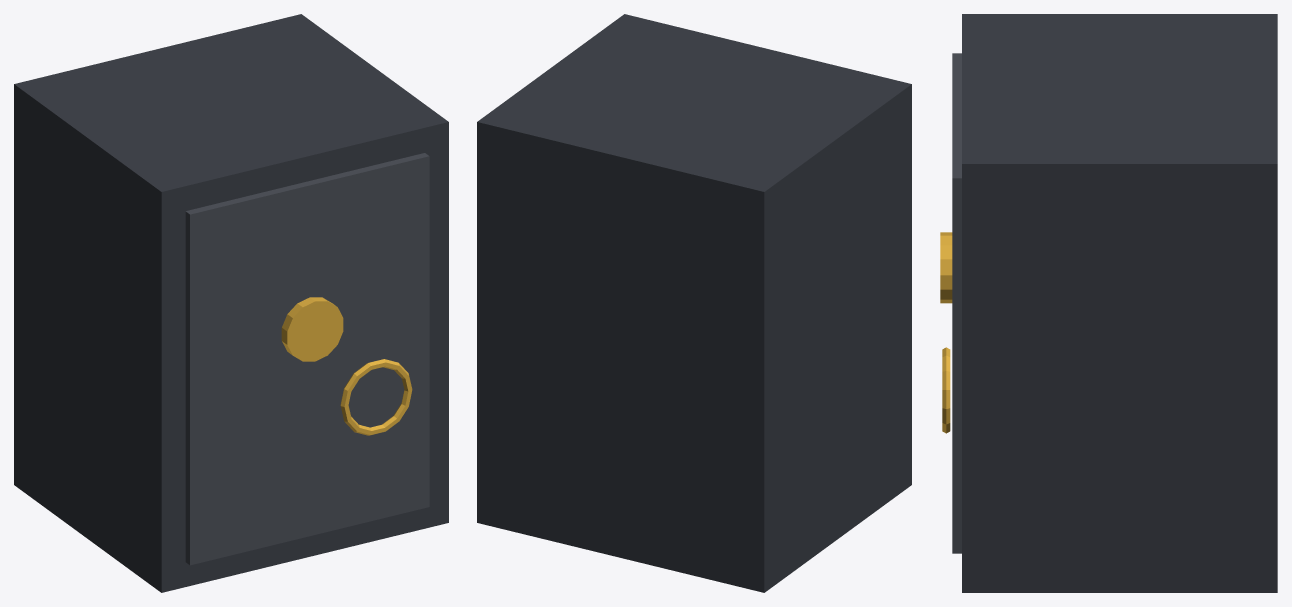
Rendered from pawn_safe.glb.
The picture shows the model from 3 angles, left to right: view 1: azimuth 30°, elevation 25°; view 2: azimuth 150°, elevation 25°; view 3: azimuth 270°, elevation 25°; orthographic projection. The views are drawn at different scales.
Parts seen in each view (by area): view 1: box_pawn_safe_grey, door_pawn_safe_door, dial_pawn_brass, wheel_pawn_brass; view 2: box_pawn_safe_grey; view 3: box_pawn_safe_grey, door_pawn_safe_door, dial_pawn_brass, wheel_pawn_brass.
Part boxes in pixels (x1,y1,x2,y2): box_pawn_safe_grey: [14, 14, 448, 592]; door_pawn_safe_door: [185, 153, 429, 565]; dial_pawn_brass: [281, 297, 343, 361]; wheel_pawn_brass: [340, 359, 412, 435]; box_pawn_safe_grey: [477, 14, 911, 592]; box_pawn_safe_grey: [962, 14, 1277, 592]; door_pawn_safe_door: [952, 53, 961, 553]; dial_pawn_brass: [940, 232, 952, 303]; wheel_pawn_brass: [942, 347, 950, 433].
Size of the model in its own units: 0.9 by 1.2 by 0.855.
